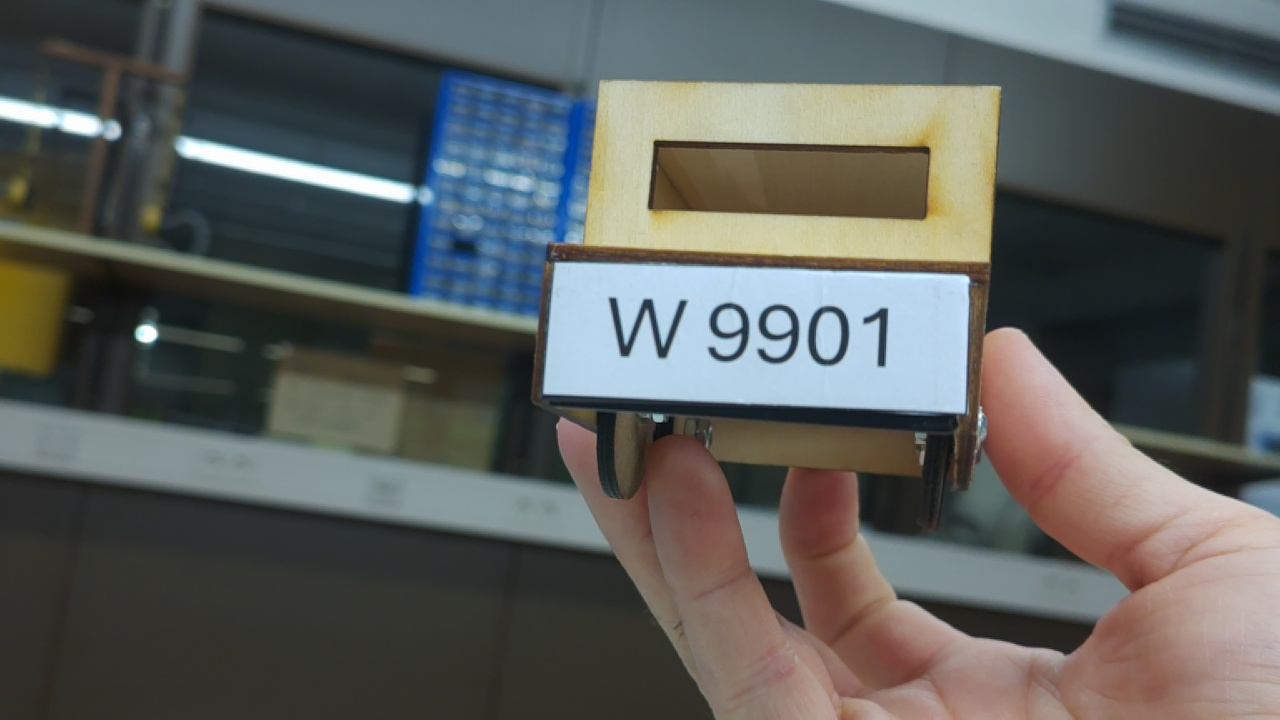license_plate: (536, 252, 979, 426)
